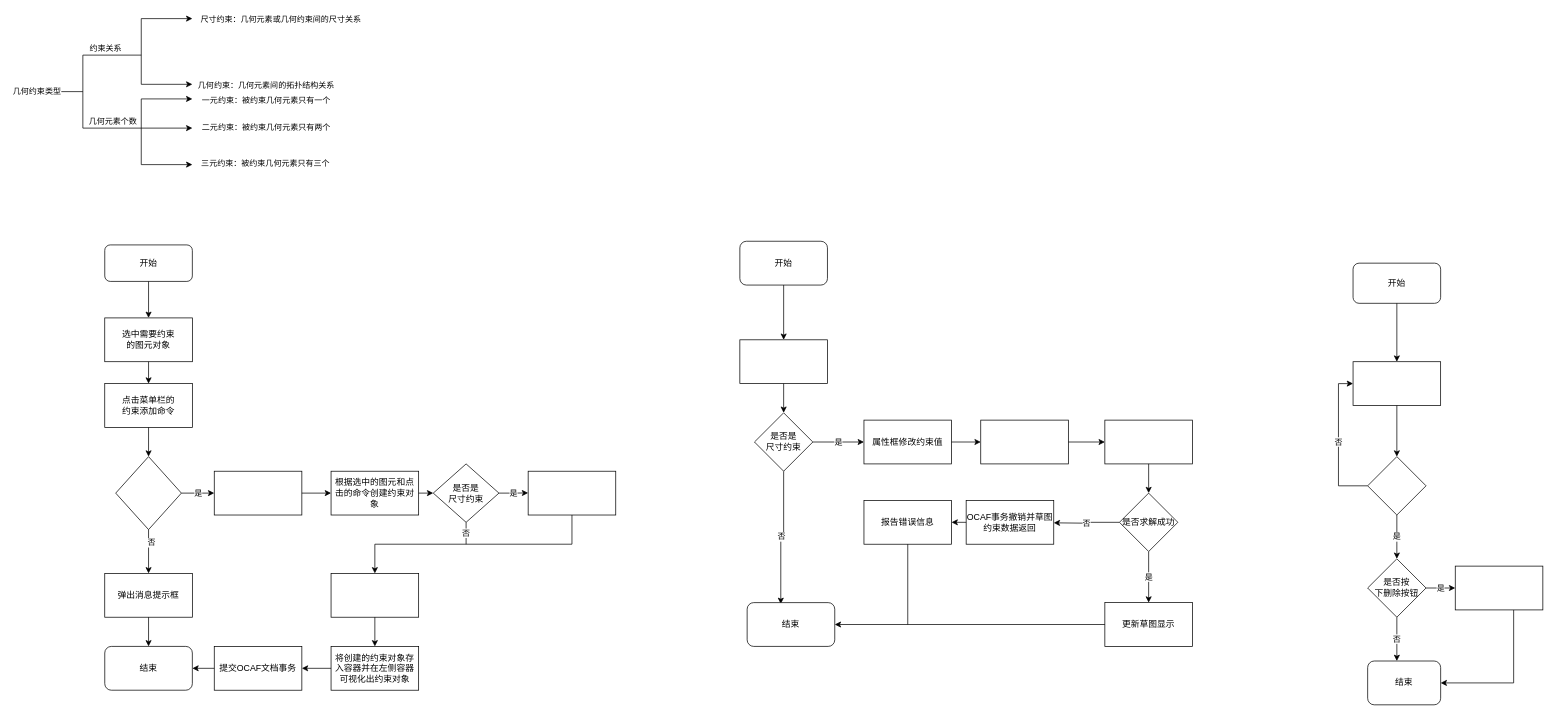
Some shapes in this 1556 by 718 pixel diagram are drawn without their labels. The shapes that lost their labels are listed below. From the top down, each one's centre as x and y in pixels, then its label:
At (x=783, y=361): "双击左侧约束的可视化显示".
At (x=1396, y=383): "鼠标右键点击QListView的项，系统高亮显示同时显示删除按钮".
At (x=1024, y=441): "提交OCAF事务并修改约束对象数据".
At (x=1148, y=441): "约束流求解".
At (x=148, y=493): "判断是否符合 约束参数调节".
At (x=258, y=492): "开启OCAF文档事务".
At (x=571, y=492): "弹出对话框获取约束长度或角度，并存入约束对象中".
At (x=1396, y=485): "是否是想 删除的约束".
At (x=374, y=595): "创建约束添加草图数据改变对象并压入Undo栈".
At (x=1499, y=587): "约束求解更新自由度".
